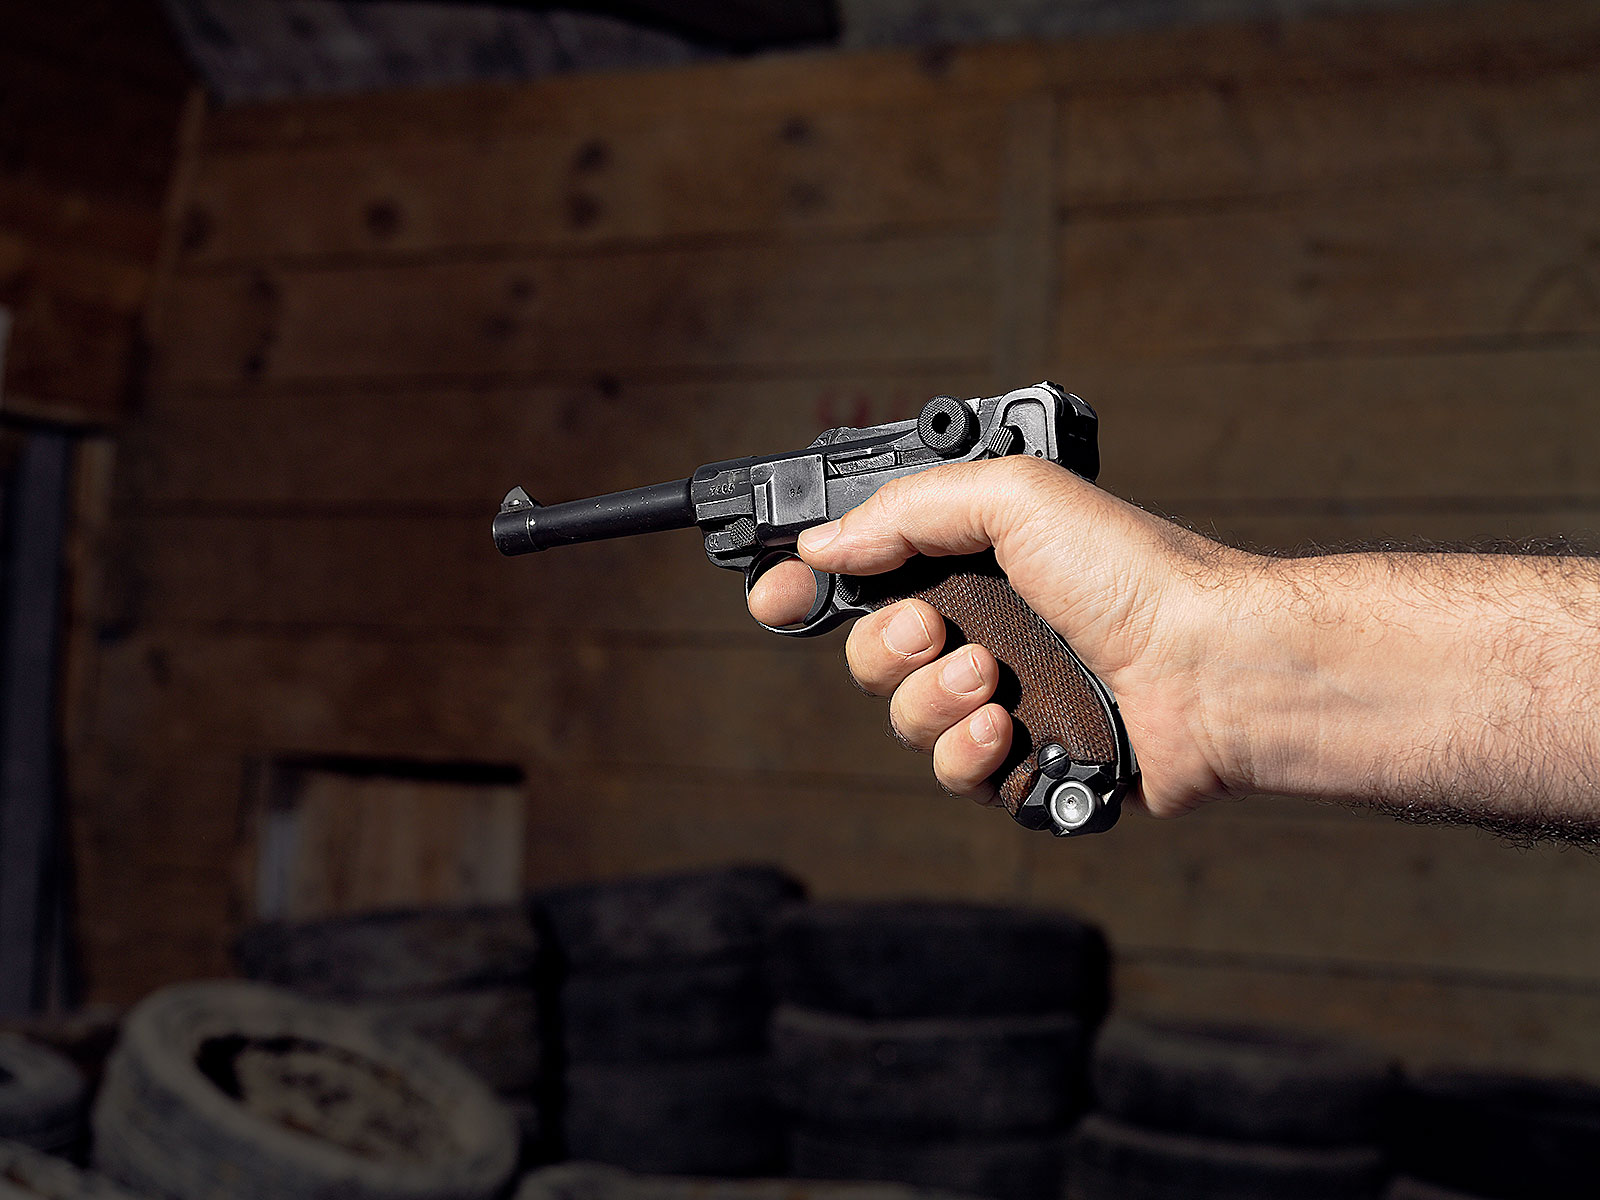Arma Real: (488, 374, 1159, 839)
